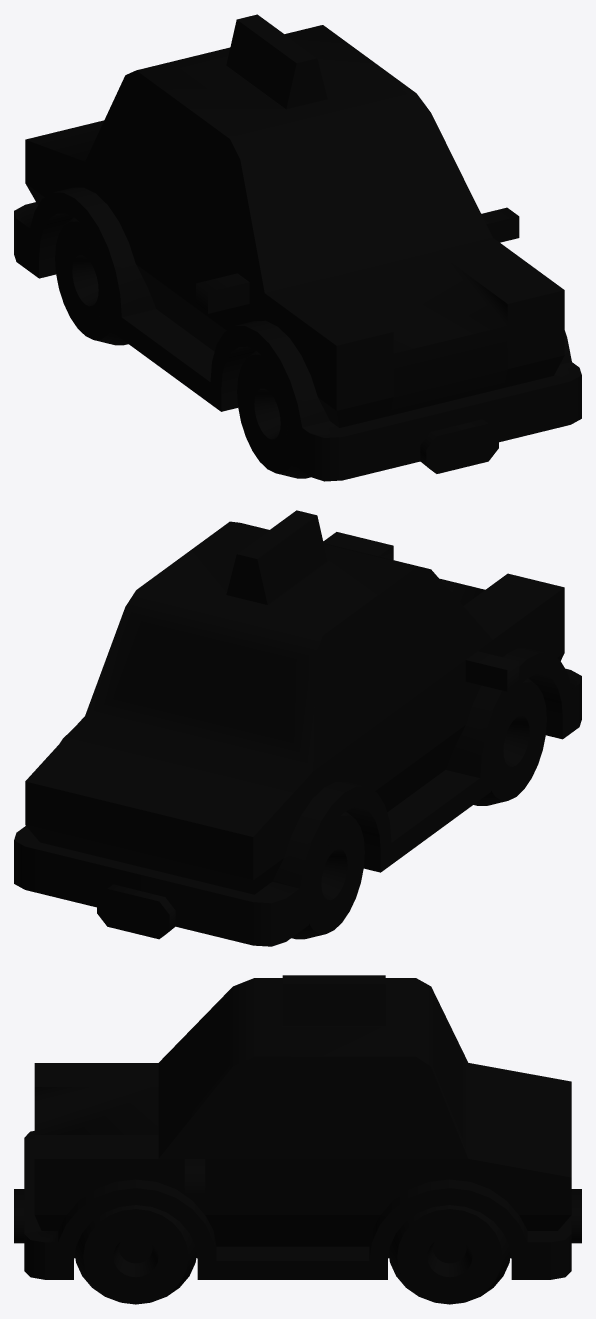
Rendered from taxi.glb.
3 views of the same model, one above another, from view 1: azimuth 30°, elevation 25°; view 2: azimuth 150°, elevation 25°; view 3: azimuth 270°, elevation 25° (orthographic). The views are drawn at different scales.
Visible parts, largest first — view 1: body, wheel-front-right (×2); view 2: body, wheel-front-right (×2); view 3: body, wheel-front-left (×2).
Part boxes in pixels (x1,y1,x2,y2): body: [14, 14, 581, 481]; wheel-front-right (×2): [55, 217, 310, 478]; body: [14, 510, 581, 946]; wheel-front-right (×2): [291, 678, 546, 939]; body: [14, 975, 581, 1279]; wheel-front-left (×2): [75, 1205, 510, 1304].
Size of the model in its own units: 1.5 by 1.5 by 2.75.
Materials: 1 (1 with a texture image).
